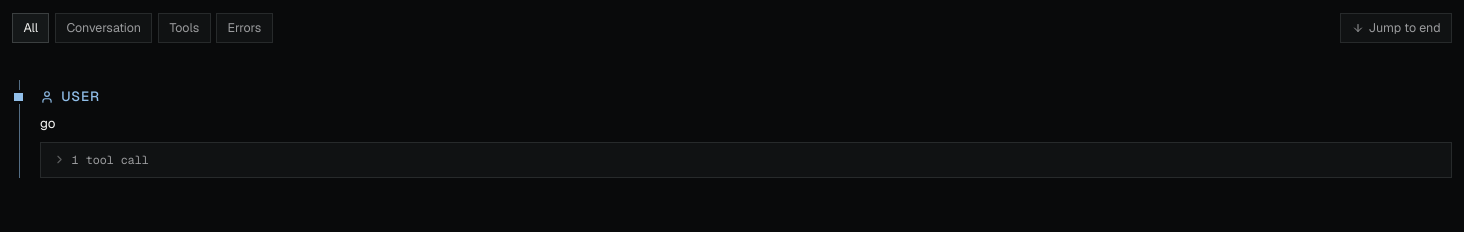
Scenario: work groups › folds a lone entry into a group of its own
Click the button "1 tool call": click(110, 160) [41, 143, 1451, 177]
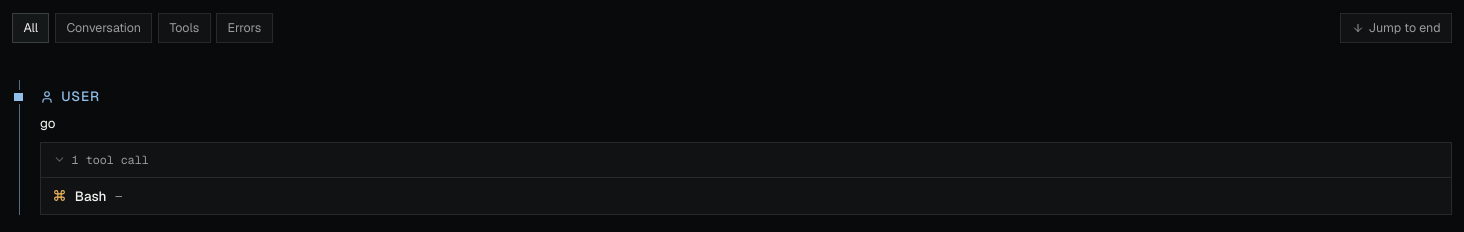
Check: the text "Bash" is shown, box [75, 186, 106, 206]
